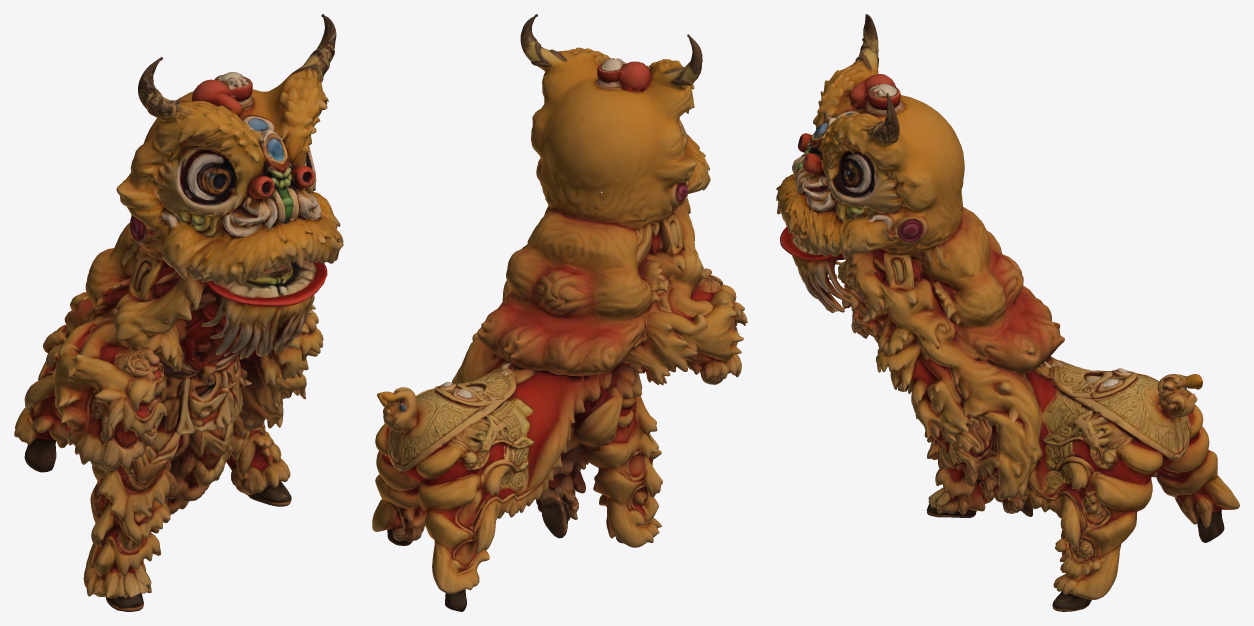
The model's file is P09-10 Dragon Parade Troupe.glb.
3 views of the same model, side by side, from view 1: azimuth 30°, elevation 25°; view 2: azimuth 150°, elevation 25°; view 3: azimuth 270°, elevation 25° (orthographic). The views are drawn at different scales.
Visible parts, largest first — view 1: tripo_node_8c13fd8e-3350-48eb-afce-da8cd603a541; view 2: tripo_node_8c13fd8e-3350-48eb-afce-da8cd603a541; view 3: tripo_node_8c13fd8e-3350-48eb-afce-da8cd603a541.
Part boxes in pixels (left/top/right/bottom): tripo_node_8c13fd8e-3350-48eb-afce-da8cd603a541: left=14, top=14, right=343, bottom=611; tripo_node_8c13fd8e-3350-48eb-afce-da8cd603a541: left=372, top=14, right=747, bottom=611; tripo_node_8c13fd8e-3350-48eb-afce-da8cd603a541: left=776, top=14, right=1239, bottom=611.
Bounding box in the file's own units: 0.5884 × 0.9781 × 0.8262.
Materials: 1 (1 with a texture image).
